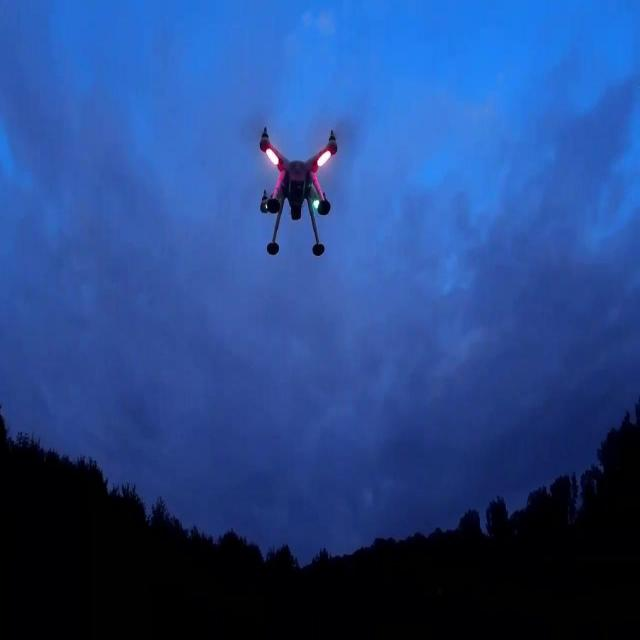UAV: (260, 127, 338, 255)
